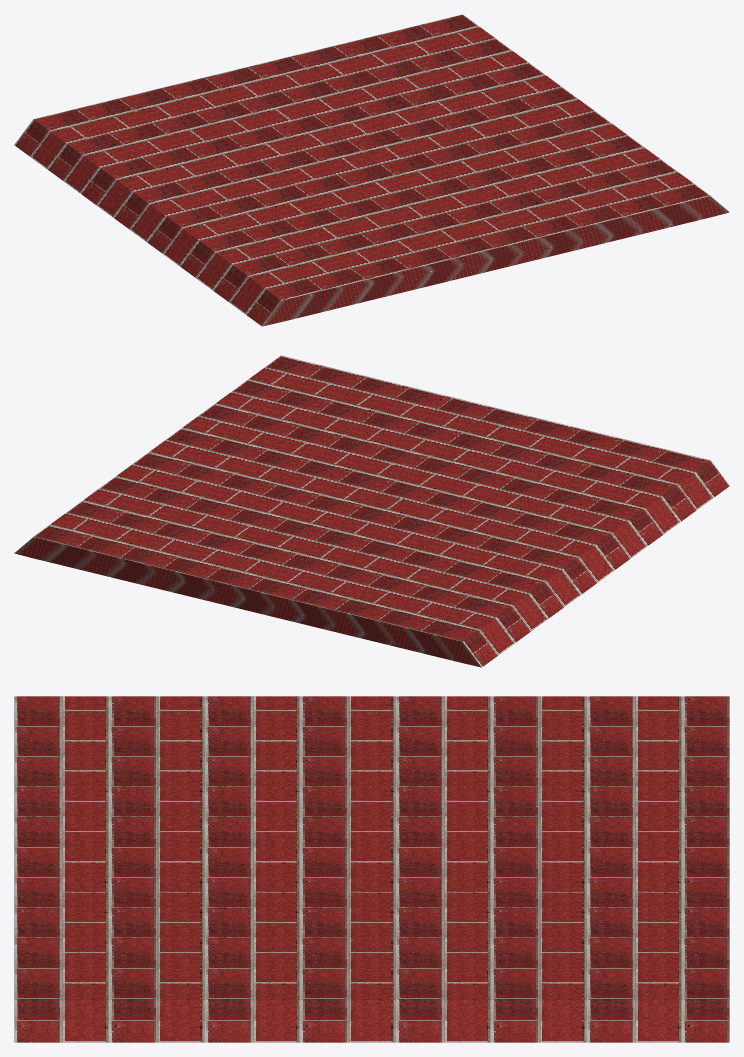
The model's file is brick platrform.glb.
The picture shows the model from 3 angles, top to bottom: view 1: azimuth 30°, elevation 25°; view 2: azimuth 150°, elevation 25°; view 3: azimuth 270°, elevation 25°; orthographic projection. The views are drawn at different scales.
Visible parts, largest first — view 1: Cube; view 2: Cube; view 3: Cube.
Part boxes in pixels (x1,y1,x2,y2): Cube: [14, 14, 729, 326]; Cube: [14, 355, 729, 667]; Cube: [14, 696, 729, 1042].
Size of the model in its own units: 43.56 by 1.9 by 40.
2 materials, 2 textured.
